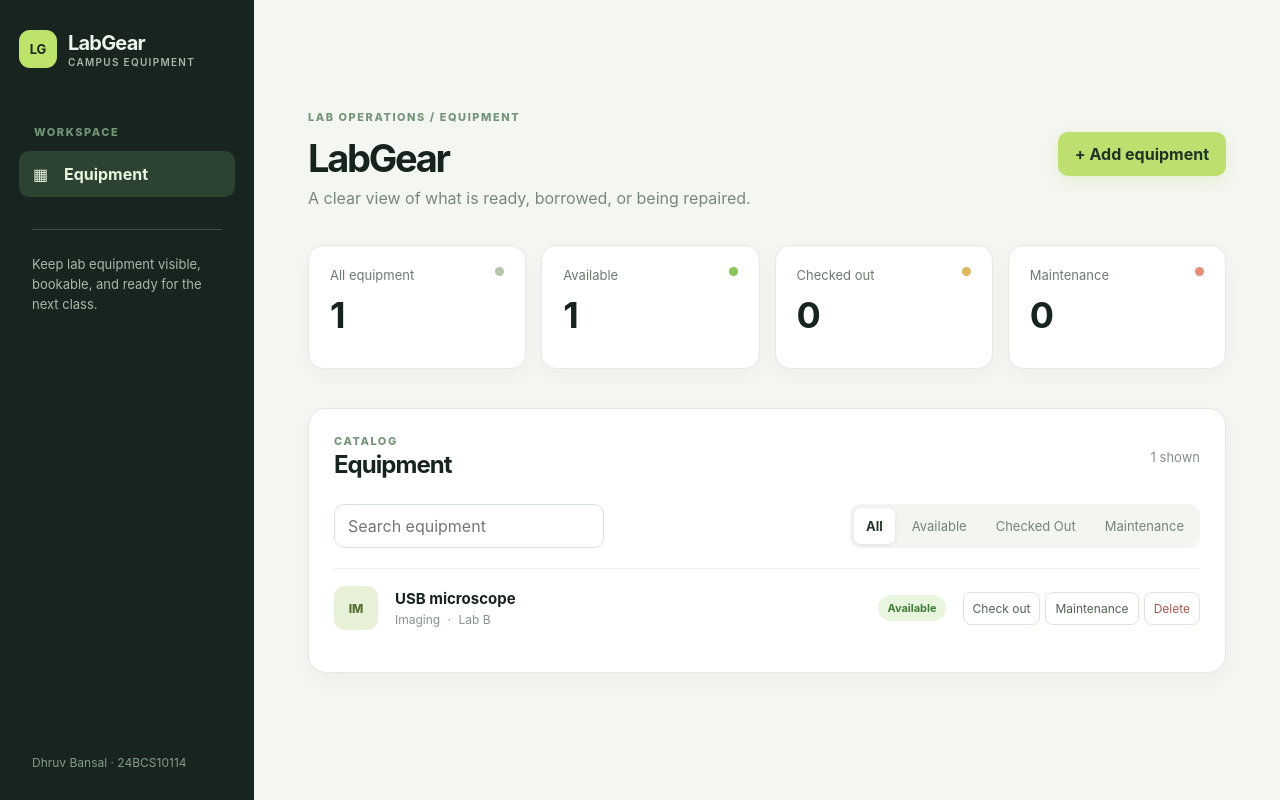
Test case: checkout records the borrower and updates the displayed status
Expected: the heading "USB microscope" is shown, [395, 589, 516, 608]
Click the button with aria-label "Check out USB microscope": [1002, 608] box [963, 592, 1040, 624]
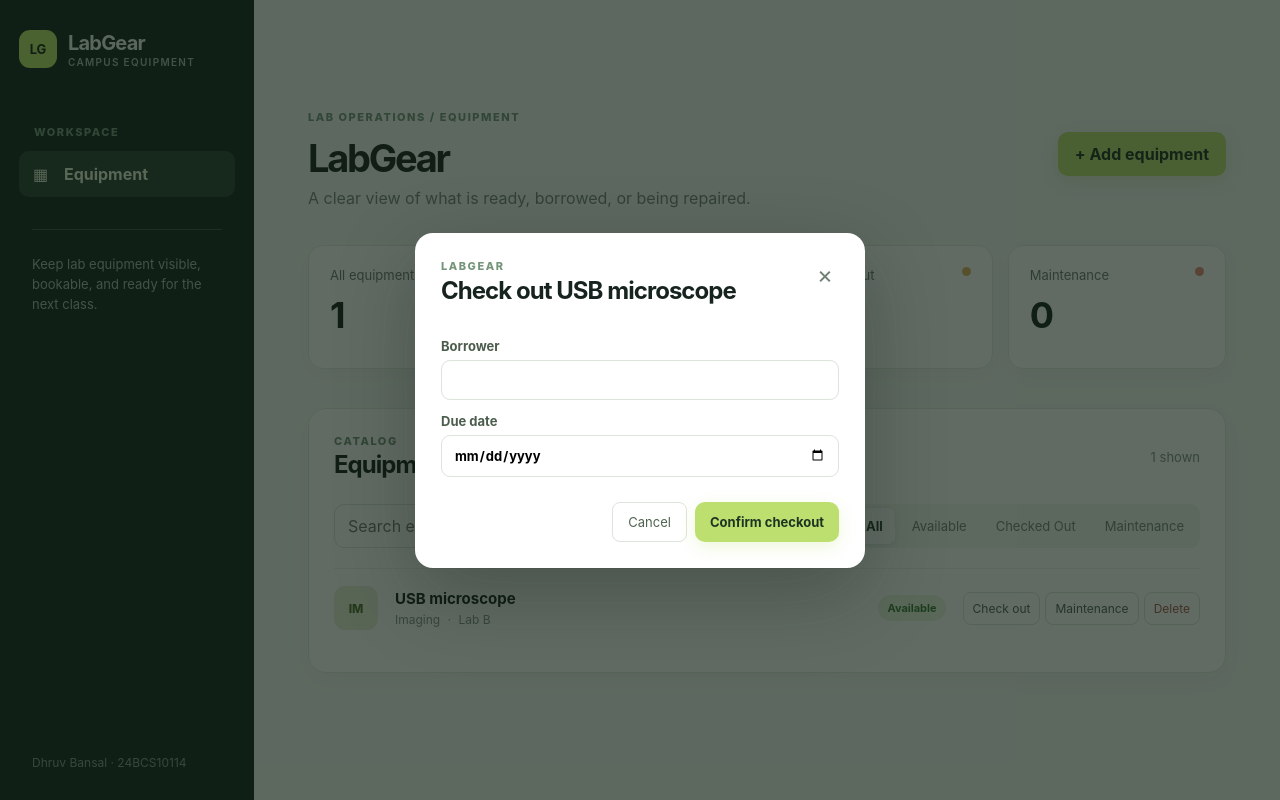
In the field labelled "Borrower": [640, 380] box [441, 360, 839, 400], type "Maya"
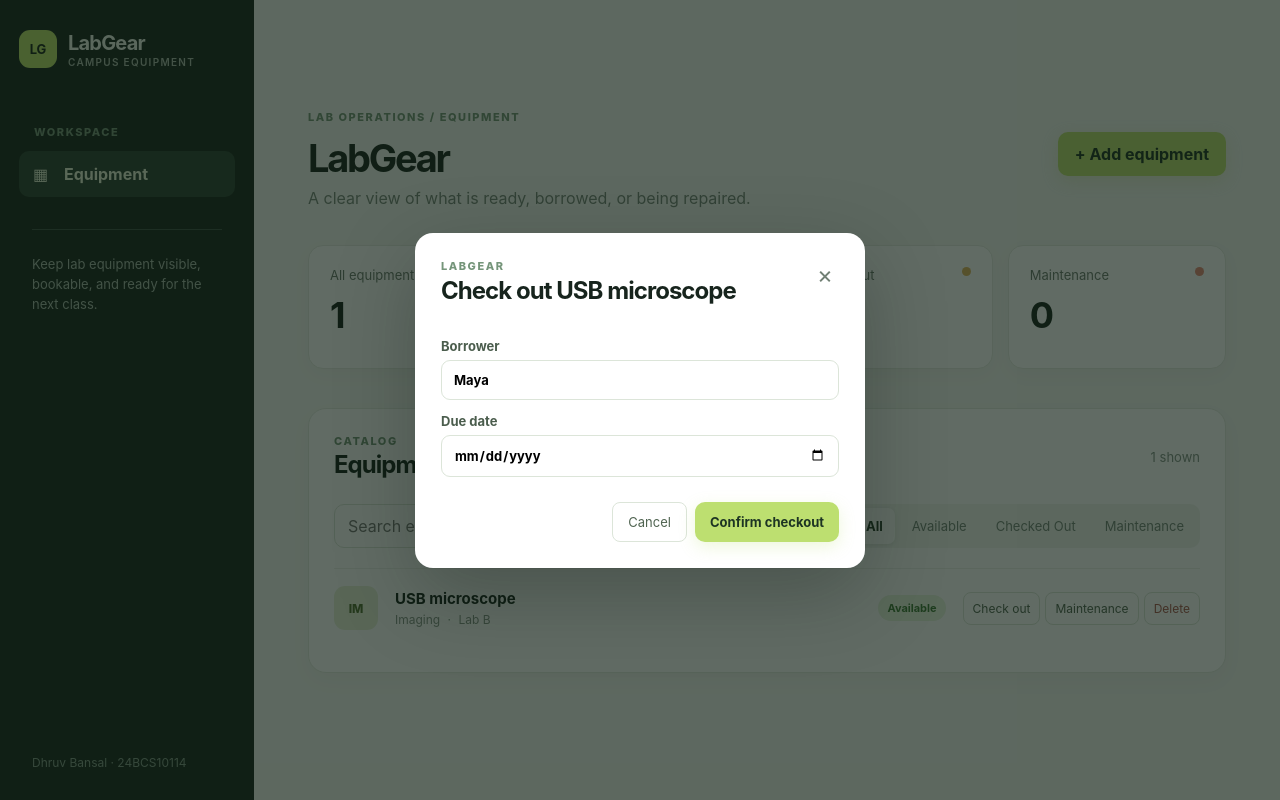
In the date field labelled "Due date": [640, 456] box [441, 434, 839, 476], type "2026-11-01"
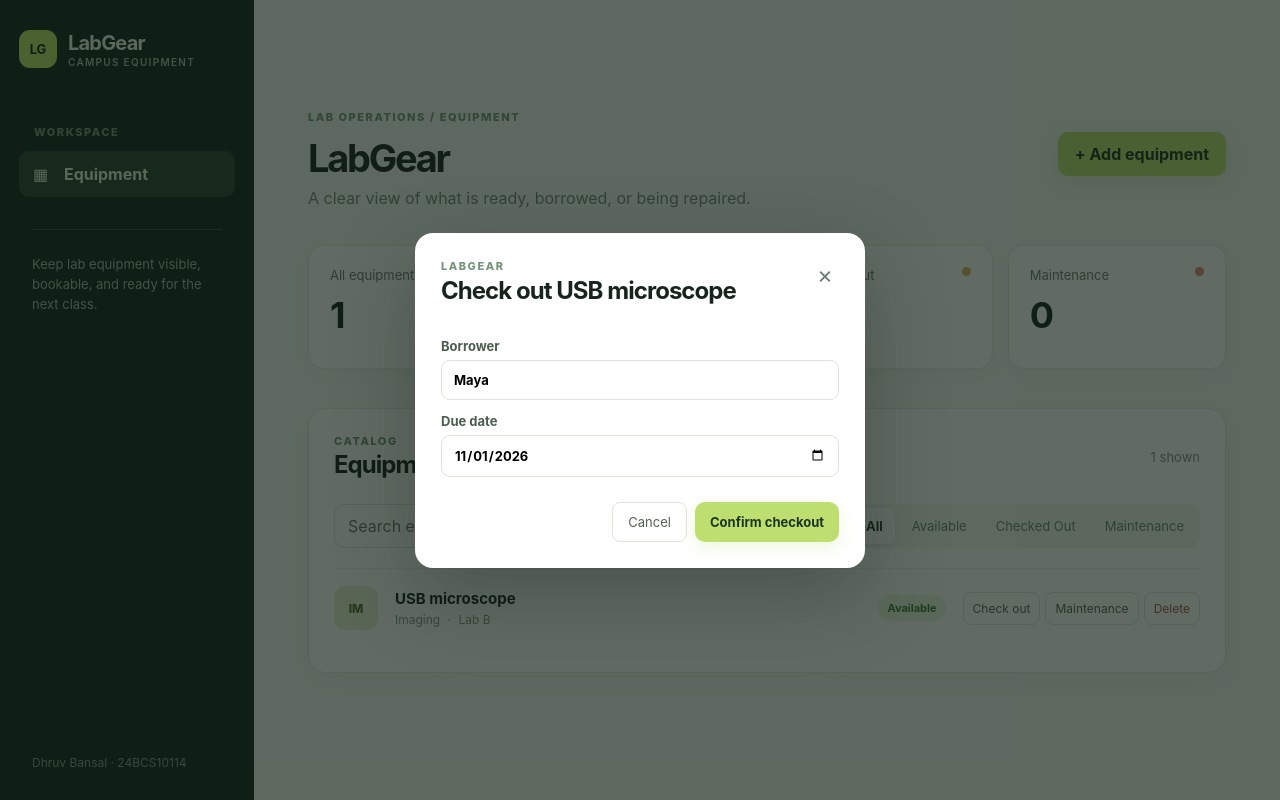
Click the button "Confirm checkout": [767, 522] box [695, 502, 839, 542]
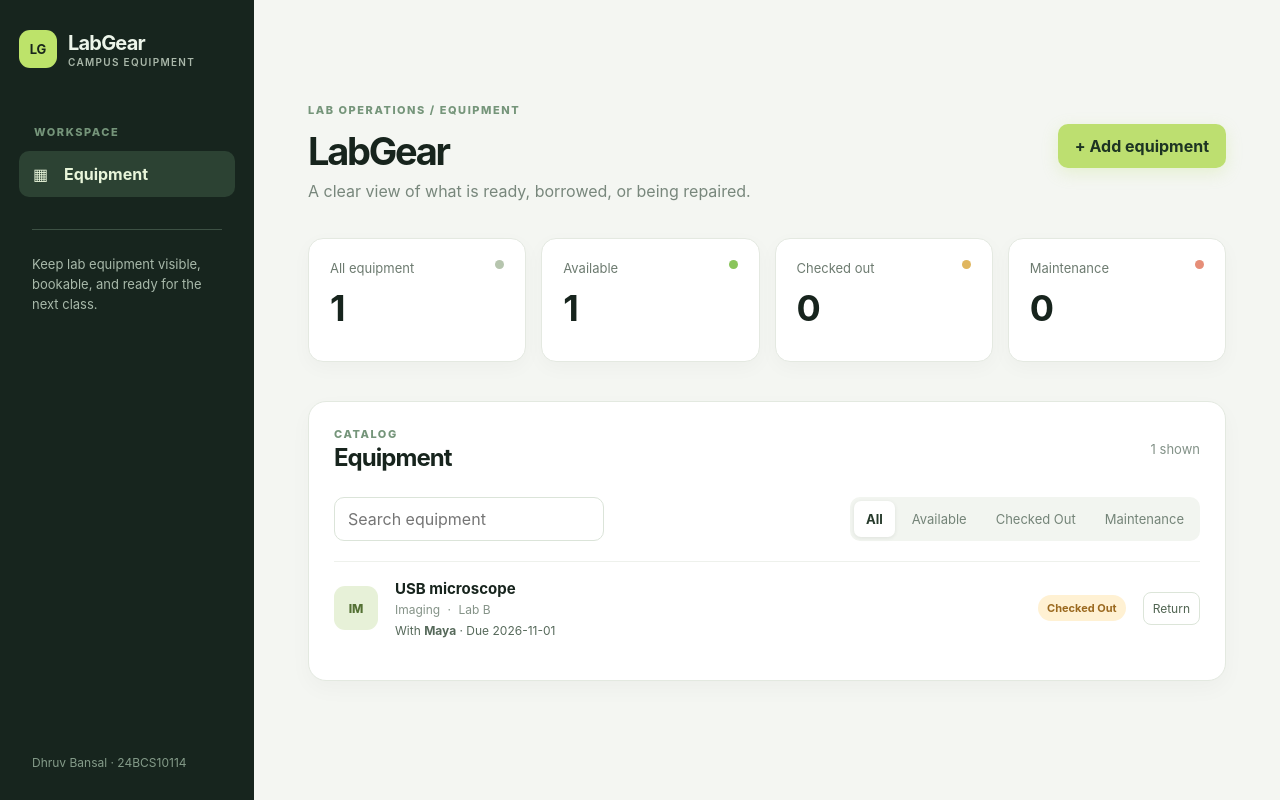
Expected: the text "Maya" is shown, [424, 622, 456, 638]
